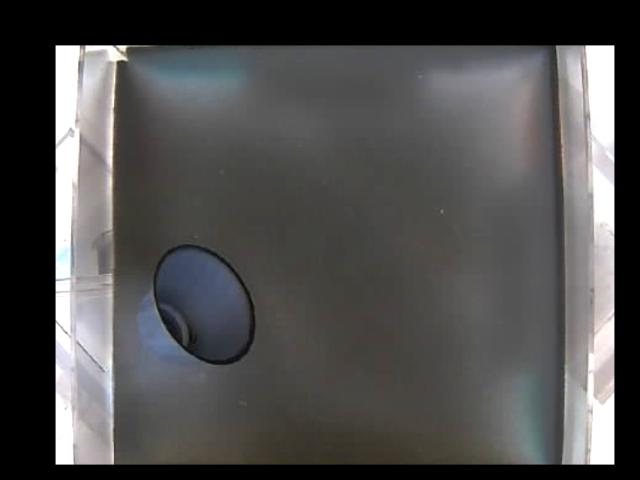Cup: (135, 242, 256, 370)
